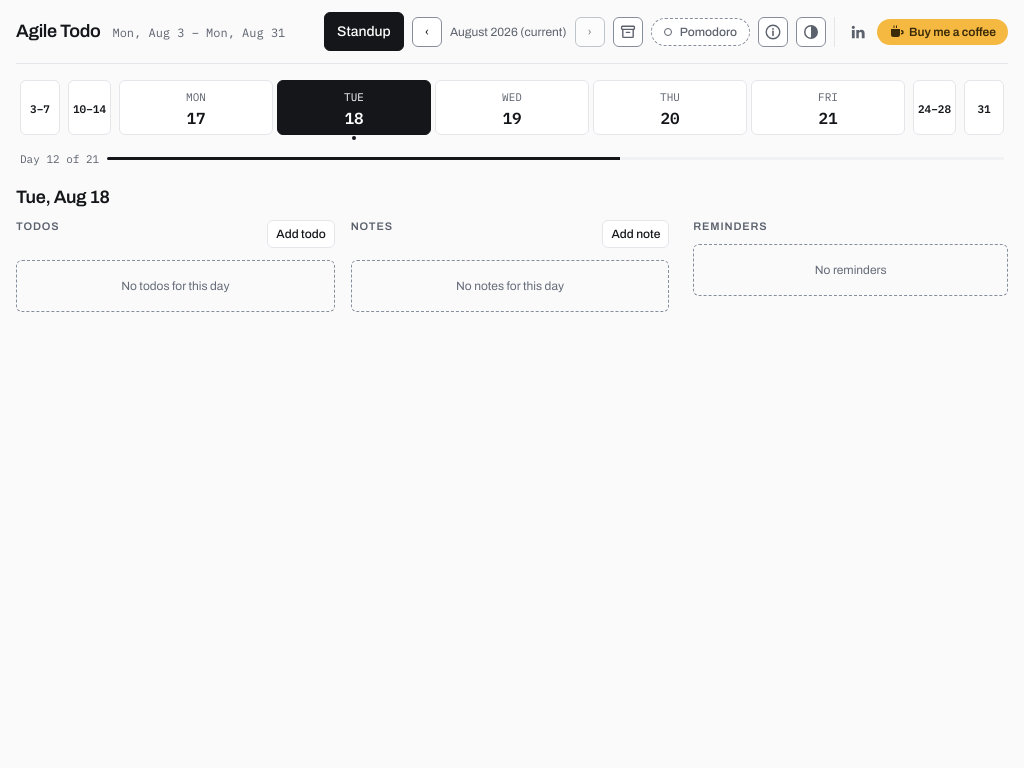
Scenario: month navigation + history › stepping months clears an open compose form (INV-9)
Click the button "Add todo": (301, 234) [267,220,335,248]
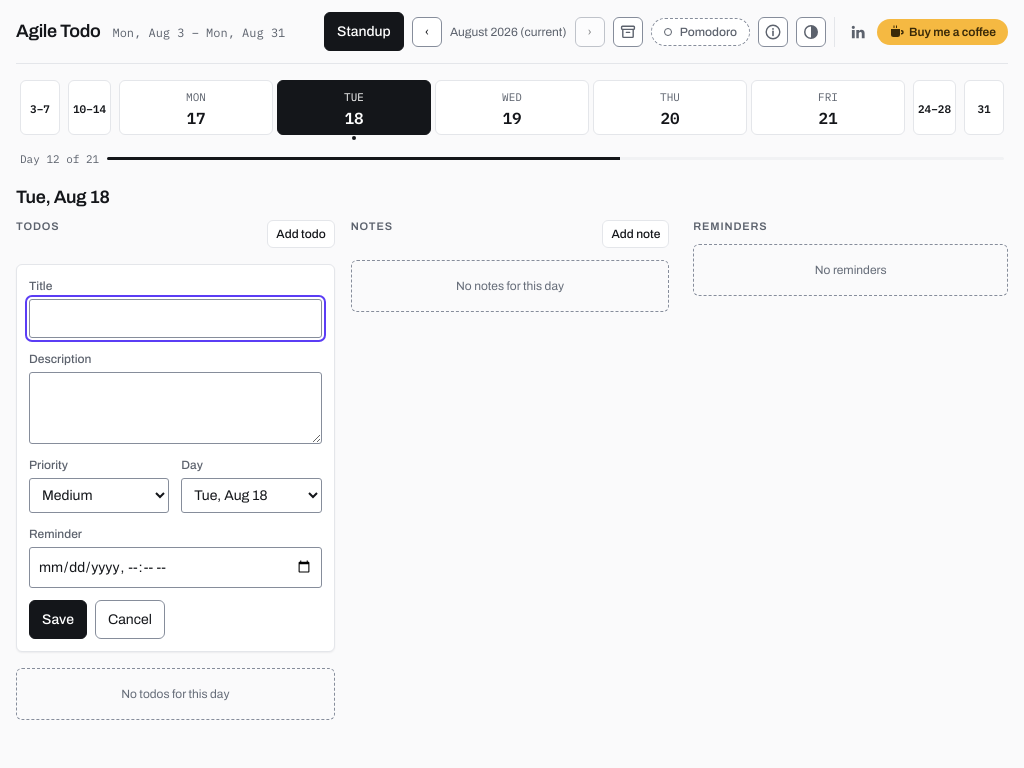
Now the field labelled "Title" is shown, box [29,299,322,338]
Click the button named "Previous month": (427, 32) [412,16,442,46]
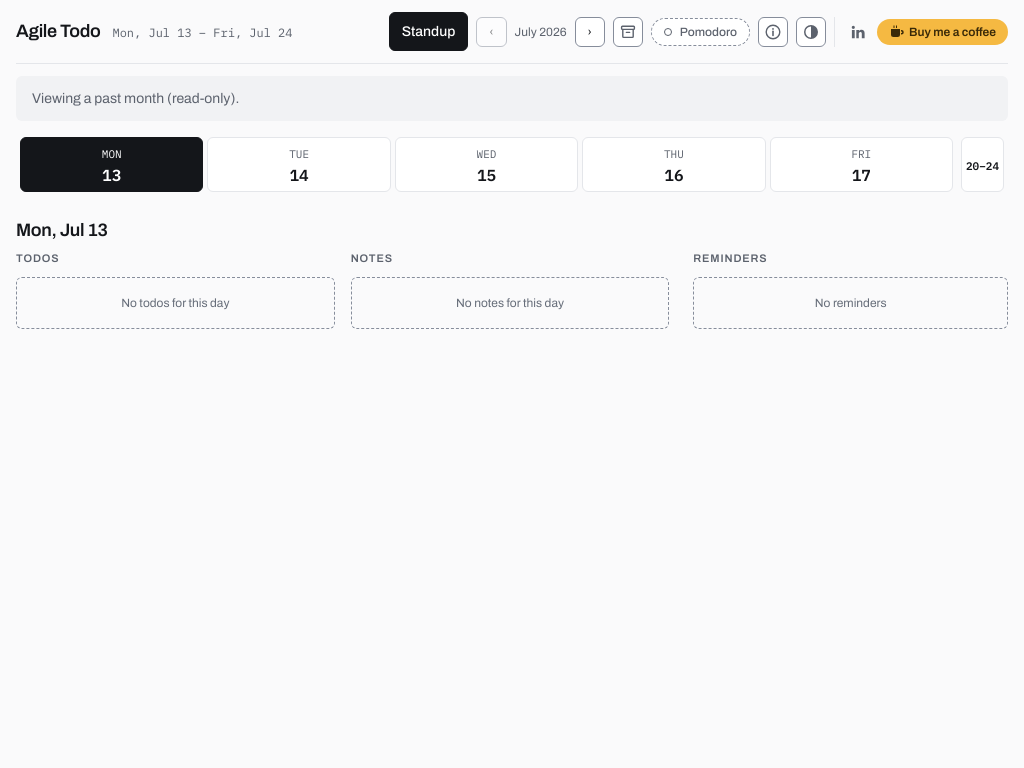
Now the label labelled "Title" is gone
